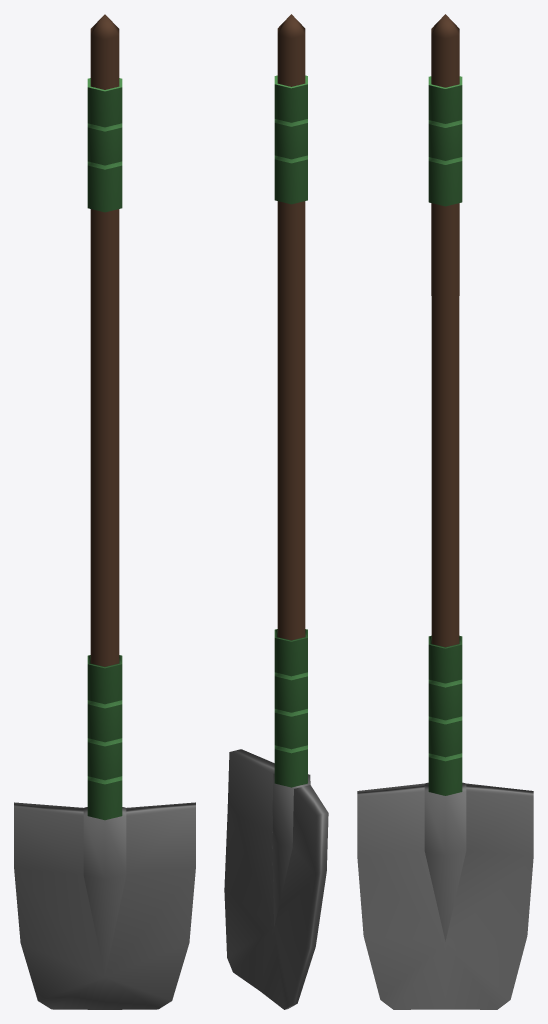
Rendered from pala_verde.fbx.
3 renders of one model, left to right at view 1: azimuth 90°, elevation 25°; view 2: azimuth 210°, elevation 25°; view 3: azimuth 270°, elevation 25°, orthographic. The views are drawn at different scales.
Parts seen in each view (by area): view 1: pala_verde; view 2: pala_verde; view 3: pala_verde.
Part boxes in pixels (x1,y1,x2,y2): pala_verde: (14,14,195,1009); pala_verde: (224,14,328,1009); pala_verde: (357,14,533,1009).
Bounding box in the file's own units: 0.0834 × 1.49 × 0.2432.
